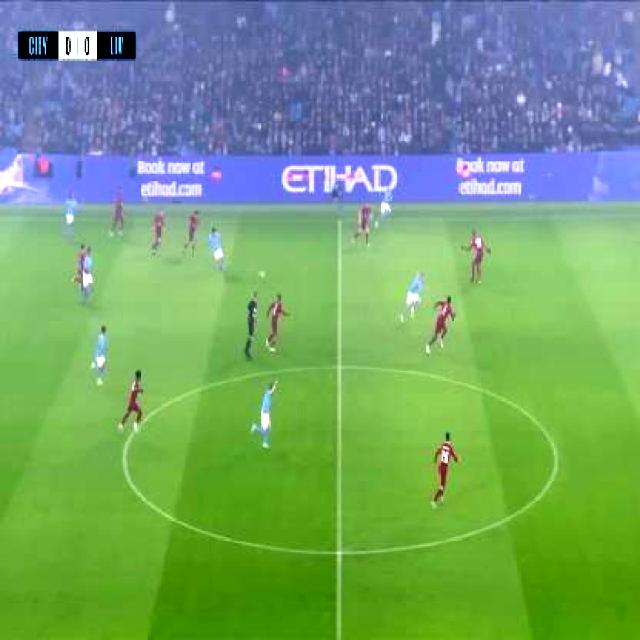halfcircle_bottom: (323, 532, 352, 571)
halfcircle_top: (325, 349, 352, 383)
midline_top_intersection: (329, 208, 348, 234)
